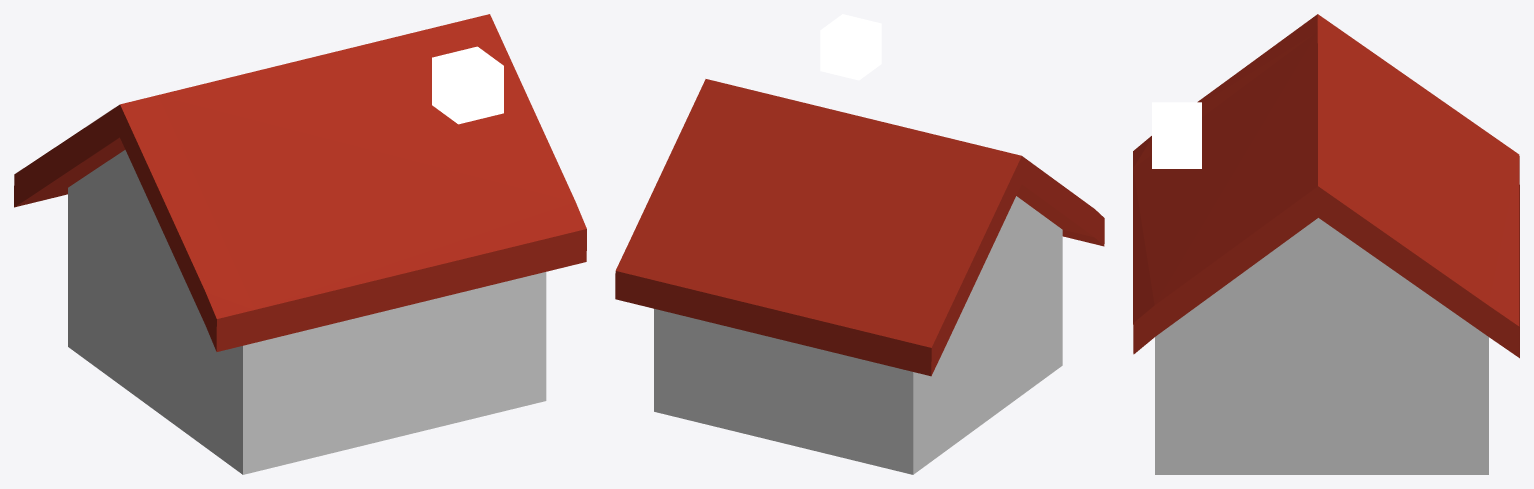
3 views of the same model, side by side, from view 1: azimuth 30°, elevation 25°; view 2: azimuth 150°, elevation 25°; view 3: azimuth 270°, elevation 25° (orthographic). The views are drawn at different scales.
Visible parts, largest first — view 1: Home, Smart; view 2: Home, Smart; view 3: Home, Smart.
Boxes of the visible parts, x1,y1,x2,y2 form: Home: (14,14,586,474); Smart: (432,46,503,124); Home: (615,79,1104,474); Smart: (820,14,881,80); Home: (1133,14,1519,474); Smart: (1152,102,1201,168).
Size of the model in its own units: 2.44 by 2.19 by 2.32.
